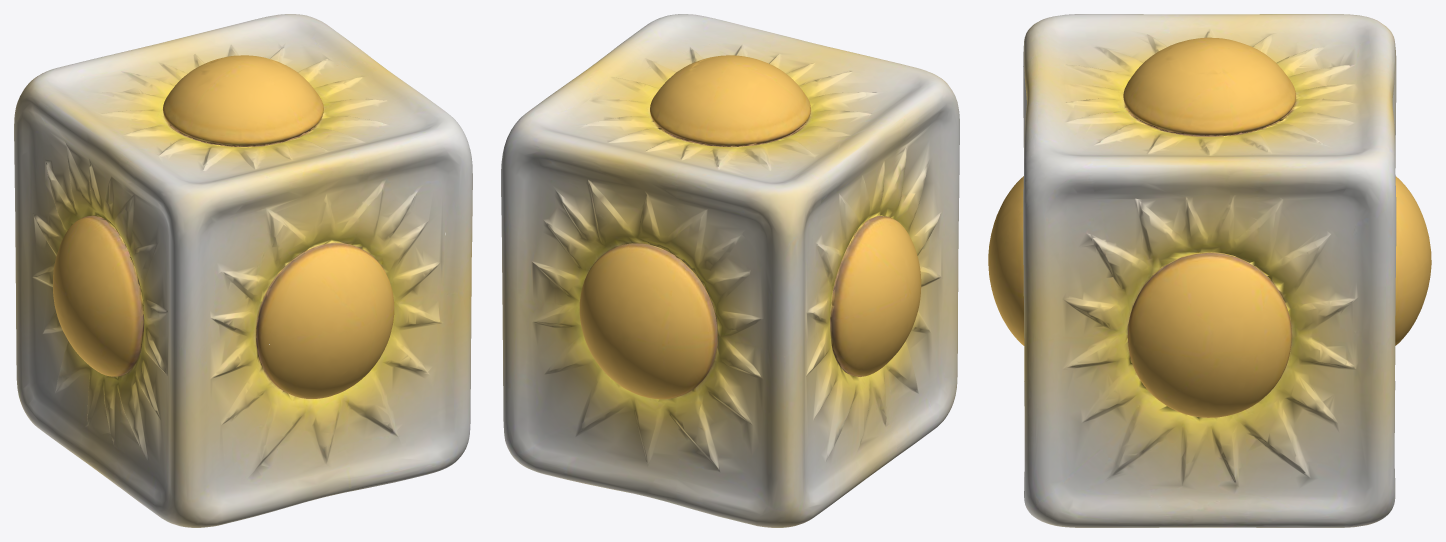
File: sun.glb
The picture shows the model from 3 angles, left to right: view 1: azimuth 30°, elevation 25°; view 2: azimuth 150°, elevation 25°; view 3: azimuth 270°, elevation 25°; orthographic projection. The views are drawn at different scales.
Parts seen in each view (by area): view 1: tripo_node_e72c8b1f-8d3f-49ae-8028-ba70304003c5; view 2: tripo_node_e72c8b1f-8d3f-49ae-8028-ba70304003c5; view 3: tripo_node_e72c8b1f-8d3f-49ae-8028-ba70304003c5.
Part boxes in pixels (x1,y1,x2,y2): tripo_node_e72c8b1f-8d3f-49ae-8028-ba70304003c5: (14,14,472,527); tripo_node_e72c8b1f-8d3f-49ae-8028-ba70304003c5: (501,14,959,527); tripo_node_e72c8b1f-8d3f-49ae-8028-ba70304003c5: (988,14,1431,527).
Bounding box in the file's own units: 0.9238 × 0.9798 × 0.9259.
Materials: 1 (1 with a texture image).
